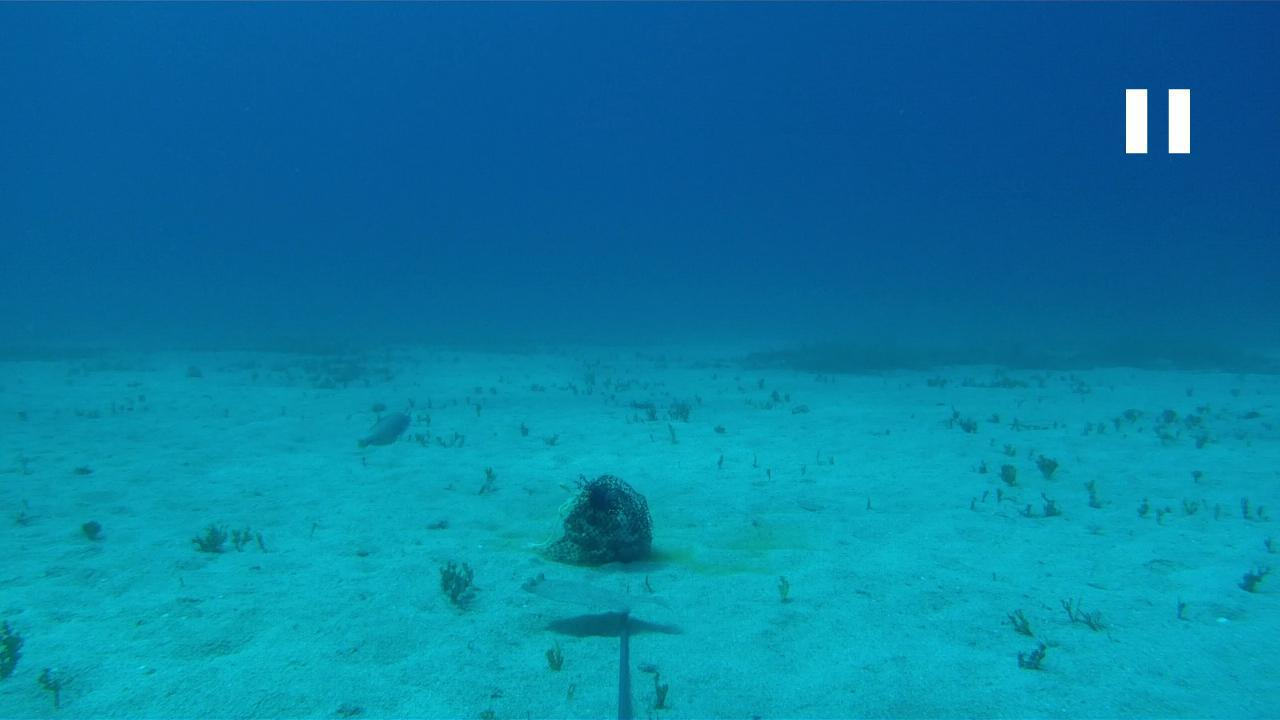bothus: (510, 565, 675, 616)
